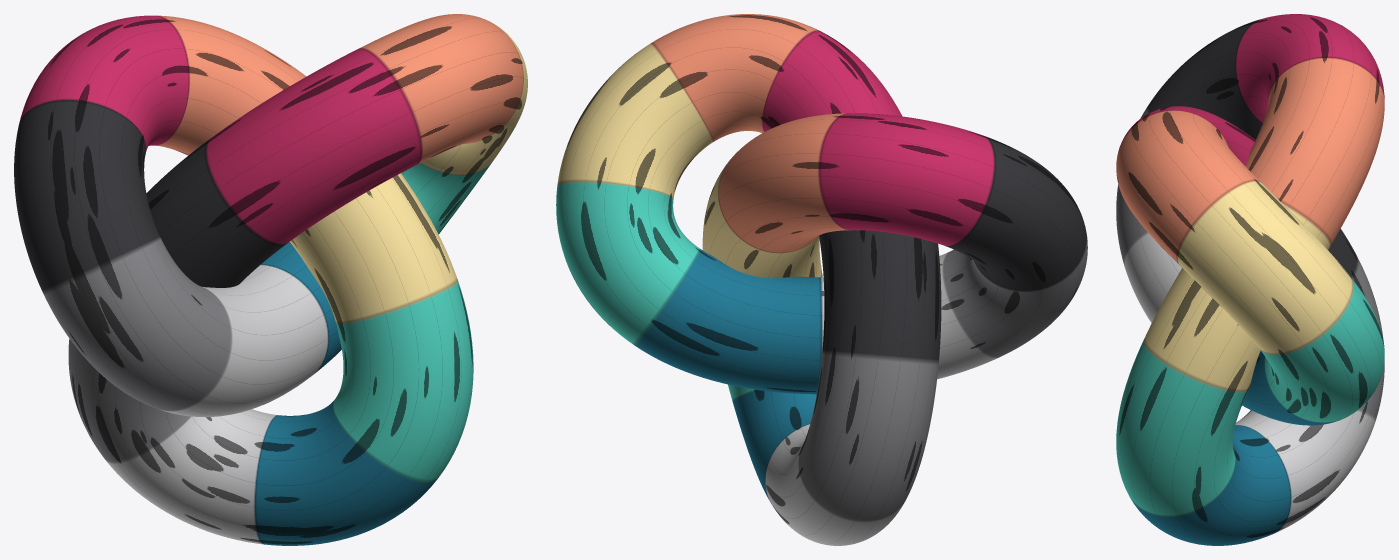
File: knot.obj
The picture shows the model from 3 angles, left to right: view 1: azimuth 30°, elevation 25°; view 2: azimuth 150°, elevation 25°; view 3: azimuth 270°, elevation 25°; orthographic projection. The views are drawn at different scales.
Parts seen in each view (by area): view 1: knot; view 2: knot; view 3: knot.
Part boxes in pixels (x1,y1,x2,y2): knot: (14,14,527,545); knot: (556,14,1087,545); knot: (1116,14,1384,545).
Size of the model in its own units: 3.85 by 3.62 by 1.94.
1 material, 1 textured.
